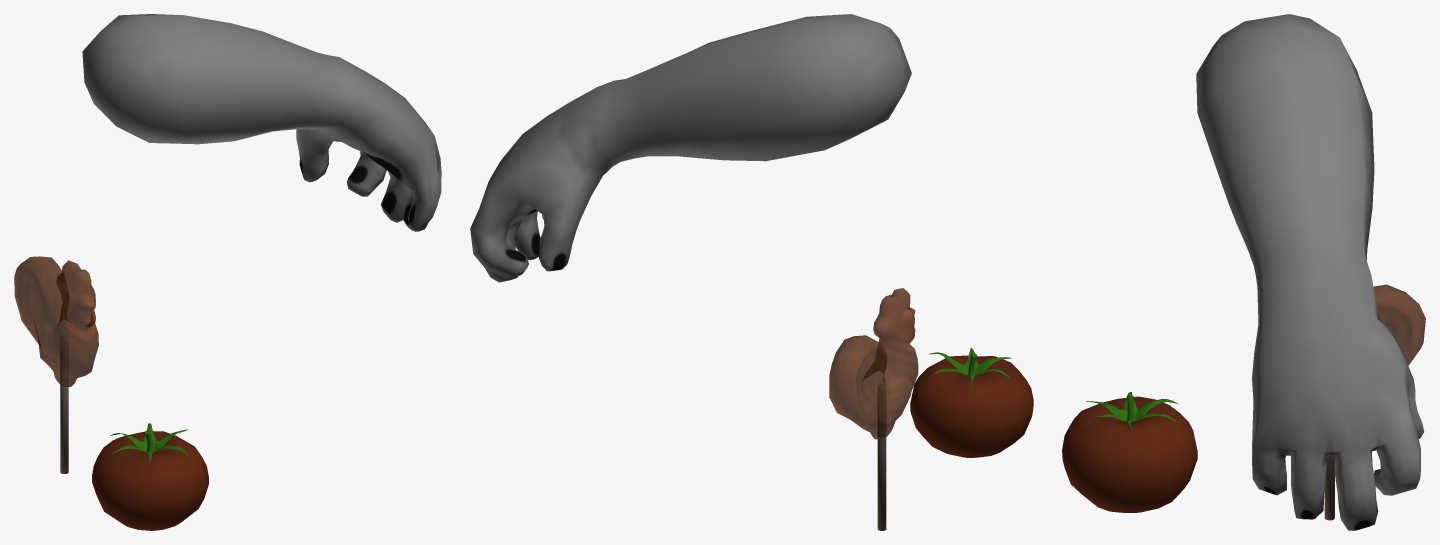
3 renders of one model, left to right at view 1: azimuth 30°, elevation 25°; view 2: azimuth 150°, elevation 25°; view 3: azimuth 270°, elevation 25°, orthographic. The views are drawn at different scales.
Visible parts, largest first — view 1: RetopoGroup2, tomato, rooster, stick, tomatoe_cap; view 2: RetopoGroup2, tomato, rooster, stick, tomatoe_cap; view 3: RetopoGroup2, tomato, rooster, tomatoe_cap, stick.
Part boxes in pixels (box(x1,y1,x2,y2)): RetopoGroup2: box(82, 14, 441, 231); tomato: box(92, 431, 208, 530); rooster: box(14, 256, 98, 386); stick: box(60, 335, 68, 473); tomatoe_cap: box(110, 423, 189, 462); RetopoGroup2: box(470, 14, 911, 282); tomato: box(910, 355, 1033, 457); rooster: box(829, 288, 918, 439); stick: box(877, 384, 886, 530); tomatoe_cap: box(929, 348, 1011, 390); RetopoGroup2: box(1196, 14, 1424, 530); tomato: box(1062, 396, 1197, 512); rooster: box(1373, 284, 1425, 365); tomatoe_cap: box(1085, 392, 1177, 429); stick: box(1324, 456, 1334, 520).
Bounding box in the file's own units: 150 × 153 × 95.46.
